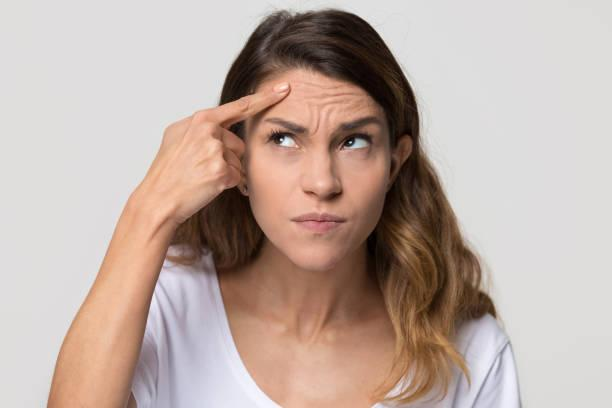Dry-Skin: (290, 81, 367, 126)
